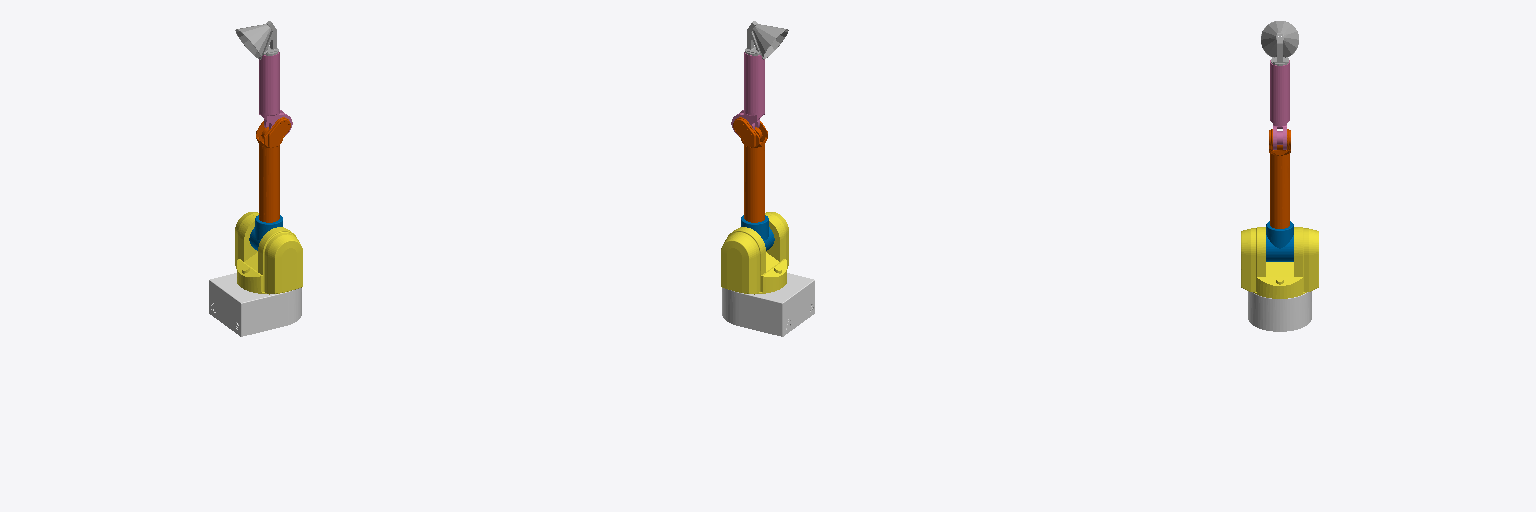
The robot description file, URDF, robot "wam_4dof":
<?xml version="1.0" ?>
<!-- =================================================================================== -->
<!-- |    This document was autogenerated by xacro from robot_description/urdf/robot/wam_4dof.xacro | -->
<!-- |    EDITING THIS FILE BY HAND IS NOT RECOMMENDED                                 | -->
<!-- =================================================================================== -->
<robot name="wam_4dof" xmlns:body="http://playerstage.sourceforge.net/gazebo/xmlschema/#body" xmlns:controller="http://playerstage.sourceforge.net/gazebo/xmlschema/#controller" xmlns:gazebo="http://playerstage.sourceforge.net/gazebo/xmlschema/#gz" xmlns:geom="http://playerstage.sourceforge.net/gazebo/xmlschema/#geom" xmlns:interface="http://playerstage.sourceforge.net/gazebo/xmlschema/#interface" xmlns:joint="http://playerstage.sourceforge.net/gazebo/xmlschema/#joint" xmlns:model="http://playerstage.sourceforge.net/gazebo/xmlschema/#model" xmlns:physics="http://playerstage.sourceforge.net/gazebo/xmlschema/#physics" xmlns:renderable="http://playerstage.sourceforge.net/gazebo/xmlschema/#renderable" xmlns:rendering="http://playerstage.sourceforge.net/gazebo/xmlschema/#rendering" xmlns:sensor="http://playerstage.sourceforge.net/gazebo/xmlschema/#sensor" xmlns:xacro="http://www.ros.org/wiki/xacro" xmlns:xi="http://www.w3.org/2001/XInclude">
  

  #Fictional Footprint - for integration
  
  <link name="world"/>
  <link name="wam_footprint">
    <inertial>
      <mass value="0.0001"/>
      <origin xyz="0 0 0"/>
      <inertia ixx="0.0001" ixy="0.0" ixz="0.0" iyy="0.0001" iyz="0.0" izz="0.0001"/>
    </inertial>
    <visual>
      <origin rpy="0 0 0" xyz="0 0 0"/>
      <geometry>
        <box size="0.001 0.001 0.001"/>
      </geometry>
    </visual>
    <collision>
      <origin rpy="0 0 0" xyz="0 0 0.0"/>
      <geometry>
        <box size="0.001 0.001 0.001"/>
      </geometry>
    </collision>
  </link>
  

  #WAM BASE
  
  <link name="wam_base">
    <inertial>
      <mass value="9.97059584"/>
      <origin xyz="-0.02017671 -0.26604706 -0.14071720"/>
      <inertia ixx="1.01232865" ixy="0.05992441" ixz="0.05388736" iyy="0.38443311" iyz="0.37488748" izz="0.82739198"/>
    </inertial>
    <visual>
      <origin rpy="0 0 -1.5707963267948966" xyz="0 0 0"/>
      <geometry name="wam_base_visual">
        <mesh filename="../meshes/base_link_fine.obj"/>
      </geometry>
      <material name="LightGrey">
        <color rgba="0.9 0.9 0.9 1.0"/>
      </material>
    </visual>
    <collision>
      <origin rpy="0 0 -1.5707963267948966" xyz="0 0 0"/>
      <geometry name="wam_base_collision">
        <mesh filename="../meshes/base_link_convex.obj"/>
      </geometry>
      <contact_coefficients kd="1000.0" kp="1000.0" mu="0"/>
    </collision>
  </link>
  

  #LINK J1, Shoulder link
  
  <link name="j1">
    <inertial>
      <mass value="10.76768767"/>
      <origin xyz="-0.00443422 0.12189039 -0.00066489"/>
      <inertia ixx="0.29486350" ixy="-0.00795023" ixz="-0.00009311" iyy="0.11350017" iyz="0.00018711" izz="0.25065343"/>
    </inertial>
    <visual>
      <origin rpy="1.5707963267948966 0 0" xyz="0 0 0"/>
      <geometry name="link_j1_visual">
        <mesh filename="../meshes/shoulder_link_fine.obj"/>
      </geometry>
    </visual>
    <collision>
      <origin rpy="1.5707963267948966 0 0" xyz="0 0 0"/>
      <geometry name="link_j1_collision">
        <mesh filename="../meshes/shoulder_link_convex_decomposition_p1.obj"/>
      </geometry>
      <contact_coefficients kd="1000.0" kp="1000.0" mu="0"/>
    </collision>
    <collision>
      <origin rpy="1.5707963267948966 0 0" xyz="0 0 0"/>
      <geometry name="link_j1_collision">
        <mesh filename="../meshes/shoulder_link_convex_decomposition_p2.obj"/>
      </geometry>
      <contact_coefficients kd="1000.0" kp="1000.0" mu="0"/>
    </collision>
    <collision>
      <origin rpy="1.5707963267948966 0 0" xyz="0 0 0"/>
      <geometry name="link_j1_collision">
        <mesh filename="../meshes/shoulder_link_convex_decomposition_p3.obj"/>
      </geometry>
      <contact_coefficients kd="1000.0" kp="1000.0" mu="0"/>
    </collision>
  </link>
  

  #LINK J2, shoulder pitch link
  
  <link name="j2">
    <inertial>
      <mass value="3.87493756"/>
      <origin xyz="-0.00236983 0.03105614 0.01542114"/>
      <inertia ixx="0.02606840" ixy="-0.00001346" ixz="-0.00011701" iyy="0.01472202" iyz="0.00003659" izz="0.01934814"/>
    </inertial>
    <visual>
      <origin rpy="0 0 0" xyz="0 0 0"/>
      <geometry name="link_j2_visual">
        <mesh filename="../meshes/shoulder_pitch_link_fine.obj"/>
      </geometry>
    </visual>
    <collision>
      <origin rpy="0 0 0" xyz="0 0 0"/>
      <geometry name="link_j2_collision">
        <mesh filename="../meshes/shoulder_pitch_link_convex.obj"/>
      </geometry>
      <contact_coefficients kd="1000.0" kp="1000.0" mu="0"/>
    </collision>
  </link>
  

  #LINK J3 upper arm link
  
  <link name="j3">
    <inertial>
      <mass value="1.80228141"/>
      <origin xyz="-0.03825858 0.20750770 0.00003309"/>
      <inertia ixx="0.13671601" ixy="-0.01680434" ixz="0.00000510" iyy="0.00588354" iyz="-0.00000530" izz="0.13951371"/>
    </inertial>
    <visual>
      <origin rpy="1.5707963267948966 0 0" xyz="0 0 0"/>
      <geometry name="link_j3_visual">
        <mesh filename="../meshes/upper_arm_link_fine.obj"/>
      </geometry>
    </visual>
    <collision>
      <origin rpy="1.5707963267948966 0 0" xyz="0 0 0"/>
      <geometry name="link_j3_collision">
        <mesh filename="../meshes/upper_arm_link_convex_decomposition_p1.obj"/>
      </geometry>
      <contact_coefficients kd="1000.0" kp="1000.0" mu="0"/>
    </collision>
    <collision>
      <origin rpy="1.5707963267948966 0 0" xyz="0 0 0"/>
      <geometry name="link_j3_collision">
        <mesh filename="../meshes/upper_arm_link_convex_decomposition_p2.obj"/>
      </geometry>
      <contact_coefficients kd="1000.0" kp="1000.0" mu="0"/>
    </collision>
  </link>
  

  #LINK J4, forearm base
  
  <link name="j4">
    <inertial>
      <mass value="1.06513649"/>
      <origin xyz="0.01095471 -0.00002567 0.14053900"/>
      <inertia ixx="0.03952350" ixy="0.00000189" ixz="0.00003117" iyy="0.04008214" iyz="0.00000131" izz="0.00210299"/>
    </inertial>
    <visual>
      <origin rpy="1.5707963267948966 3.141592653589793 3.141592653589793" xyz="0 0 0"/>
      <geometry>
        <mesh filename="../meshes/elbow_link_fine.obj"/>
      </geometry>
    </visual>
    <visual>
      <origin rpy="3.141592653589793 0 0" xyz="-.045 0 0.214"/>
      <geometry>
        <cylinder length="0.272" radius=".0445"/>
      </geometry>
    </visual>
    <collision>
      <origin rpy="1.5707963267948966 3.141592653589793 3.141592653589793" xyz="0 0 0"/>
      <geometry>
        <mesh filename="../meshes/elbow_link_convex.obj"/>
      </geometry>
      <contact_coefficients kd="1000.0" kp="1000.0" mu="0"/>
    </collision>
    <collision>
      <origin rpy="3.141592653589793 0 0" xyz="-.045 0 0.214"/>
      <geometry>
        <cylinder length="0.272" radius=".0445"/>
      </geometry>
      <contact_coefficients kd="1000.0" kp="1000.0" mu="0"/>
    </collision>
  </link>
  
  #LINK tool - FIXED
  
  <link name="tool">
    <inertial>
      <mass value="0.315"/>
      <origin xyz="0 0.01 0.07"/>
      <inertia ixx="0.03952350" ixy="0.00000189" ixz="0.00003117" iyy="0.04008214" iyz="0.00000131" izz="0.00210299"/>
    </inertial>
    <visual>
      <origin rpy="0 0 0" xyz="0 0 0"/>
      <geometry>
        <mesh filename="../meshes/throwing_tool.obj"/>
      </geometry>
    </visual>
  </link>
  

  #LINK tool collision - FIXED
  
  <link name="tool_col">
    <collision>
      <origin rpy="0 0 0.0" xyz="0 0 0"/>
      <geometry>
        <mesh filename="../meshes/cone_convex_part_side.obj"/>
      </geometry>
    </collision>
    <collision>
      <origin rpy="0 0 0.17453292519943295" xyz="0 0 0"/>
      <geometry>
        <mesh filename="../meshes/cone_convex_part_side.obj"/>
      </geometry>
    </collision>
    <collision>
      <origin rpy="0 0 0.3490658503988659" xyz="0 0 0"/>
      <geometry>
        <mesh filename="../meshes/cone_convex_part_side.obj"/>
      </geometry>
    </collision>
    <collision>
      <origin rpy="0 0 0.5235987755982988" xyz="0 0 0"/>
      <geometry>
        <mesh filename="../meshes/cone_convex_part_side.obj"/>
      </geometry>
    </collision>
    <collision>
      <origin rpy="0 0 0.6981317007977318" xyz="0 0 0"/>
      <geometry>
        <mesh filename="../meshes/cone_convex_part_side.obj"/>
      </geometry>
    </collision>
    <collision>
      <origin rpy="0 0 0.8726646259971648" xyz="0 0 0"/>
      <geometry>
        <mesh filename="../meshes/cone_convex_part_side.obj"/>
      </geometry>
    </collision>
    <collision>
      <origin rpy="0 0 1.0471975511965976" xyz="0 0 0"/>
      <geometry>
        <mesh filename="../meshes/cone_convex_part_side.obj"/>
      </geometry>
    </collision>
    <collision>
      <origin rpy="0 0 1.2217304763960306" xyz="0 0 0"/>
      <geometry>
        <mesh filename="../meshes/cone_convex_part_side.obj"/>
      </geometry>
    </collision>
    <collision>
      <origin rpy="0 0 1.3962634015954636" xyz="0 0 0"/>
      <geometry>
        <mesh filename="../meshes/cone_convex_part_side.obj"/>
      </geometry>
    </collision>
    <collision>
      <origin rpy="0 0 1.5707963267948966" xyz="0 0 0"/>
      <geometry>
        <mesh filename="../meshes/cone_convex_part_side.obj"/>
      </geometry>
    </collision>
    <collision>
      <origin rpy="0 0 1.7453292519943295" xyz="0 0 0"/>
      <geometry>
        <mesh filename="../meshes/cone_convex_part_side.obj"/>
      </geometry>
    </collision>
    <collision>
      <origin rpy="0 0 1.9198621771937625" xyz="0 0 0"/>
      <geometry>
        <mesh filename="../meshes/cone_convex_part_side.obj"/>
      </geometry>
    </collision>
    <collision>
      <origin rpy="0 0 2.0943951023931953" xyz="0 0 0"/>
      <geometry>
        <mesh filename="../meshes/cone_convex_part_side.obj"/>
      </geometry>
    </collision>
    <collision>
      <origin rpy="0 0 2.2689280275926285" xyz="0 0 0"/>
      <geometry>
        <mesh filename="../meshes/cone_convex_part_side.obj"/>
      </geometry>
    </collision>
    <collision>
      <origin rpy="0 0 2.443460952792061" xyz="0 0 0"/>
      <geometry>
        <mesh filename="../meshes/cone_convex_part_side.obj"/>
      </geometry>
    </collision>
    <collision>
      <origin rpy="0 0 2.6179938779914944" xyz="0 0 0"/>
      <geometry>
        <mesh filename="../meshes/cone_convex_part_side.obj"/>
      </geometry>
    </collision>
    <collision>
      <origin rpy="0 0 2.792526803190927" xyz="0 0 0"/>
      <geometry>
        <mesh filename="../meshes/cone_convex_part_side.obj"/>
      </geometry>
    </collision>
    <collision>
      <origin rpy="0 0 2.96705972839036" xyz="0 0 0"/>
      <geometry>
        <mesh filename="../meshes/cone_convex_part_side.obj"/>
      </geometry>
    </collision>
    <collision>
      <origin rpy="0 0 3.141592653589793" xyz="0 0 0"/>
      <geometry>
        <mesh filename="../meshes/cone_convex_part_side.obj"/>
      </geometry>
    </collision>
    <collision>
      <origin rpy="0 0 3.316125578789226" xyz="0 0 0"/>
      <geometry>
        <mesh filename="../meshes/cone_convex_part_side.obj"/>
      </geometry>
    </collision>
    <collision>
      <origin rpy="0 0 3.490658503988659" xyz="0 0 0"/>
      <geometry>
        <mesh filename="../meshes/cone_convex_part_side.obj"/>
      </geometry>
    </collision>
    <collision>
      <origin rpy="0 0 3.665191429188092" xyz="0 0 0"/>
      <geometry>
        <mesh filename="../meshes/cone_convex_part_side.obj"/>
      </geometry>
    </collision>
    <collision>
      <origin rpy="0 0 3.839724354387525" xyz="0 0 0"/>
      <geometry>
        <mesh filename="../meshes/cone_convex_part_side.obj"/>
      </geometry>
    </collision>
    <collision>
      <origin rpy="0 0 4.014257279586958" xyz="0 0 0"/>
      <geometry>
        <mesh filename="../meshes/cone_convex_part_side.obj"/>
      </geometry>
    </collision>
    <collision>
      <origin rpy="0 0 4.1887902047863905" xyz="0 0 0"/>
      <geometry>
        <mesh filename="../meshes/cone_convex_part_side.obj"/>
      </geometry>
    </collision>
    <collision>
      <origin rpy="0 0 4.363323129985823" xyz="0 0 0"/>
      <geometry>
        <mesh filename="../meshes/cone_convex_part_side.obj"/>
      </geometry>
    </collision>
    <collision>
      <origin rpy="0 0 4.537856055185257" xyz="0 0 0"/>
      <geometry>
        <mesh filename="../meshes/cone_convex_part_side.obj"/>
      </geometry>
    </collision>
    <collision>
      <origin rpy="0 0 4.71238898038469" xyz="0 0 0"/>
      <geometry>
        <mesh filename="../meshes/cone_convex_part_side.obj"/>
      </geometry>
    </collision>
    <collision>
      <origin rpy="0 0 4.886921905584122" xyz="0 0 0"/>
      <geometry>
        <mesh filename="../meshes/cone_convex_part_side.obj"/>
      </geometry>
    </collision>
    <collision>
      <origin rpy="0 0 5.061454830783555" xyz="0 0 0"/>
      <geometry>
        <mesh filename="../meshes/cone_convex_part_side.obj"/>
      </geometry>
    </collision>
    <collision>
      <origin rpy="0 0 5.235987755982989" xyz="0 0 0"/>
      <geometry>
        <mesh filename="../meshes/cone_convex_part_side.obj"/>
      </geometry>
    </collision>
    <collision>
      <origin rpy="0 0 5.410520681182422" xyz="0 0 0"/>
      <geometry>
        <mesh filename="../meshes/cone_convex_part_side.obj"/>
      </geometry>
    </collision>
    <collision>
      <origin rpy="0 0 5.585053606381854" xyz="0 0 0"/>
      <geometry>
        <mesh filename="../meshes/cone_convex_part_side.obj"/>
      </geometry>
    </collision>
    <collision>
      <origin rpy="0 0 5.759586531581287" xyz="0 0 0"/>
      <geometry>
        <mesh filename="../meshes/cone_convex_part_side.obj"/>
      </geometry>
    </collision>
    <collision>
      <origin rpy="0 0 5.93411945678072" xyz="0 0 0"/>
      <geometry>
        <mesh filename="../meshes/cone_convex_part_side.obj"/>
      </geometry>
    </collision>
    <collision>
      <origin rpy="0 0 6.1086523819801535" xyz="0 0 0"/>
      <geometry>
        <mesh filename="../meshes/cone_convex_part_side.obj"/>
      </geometry>
    </collision>
  </link>
  


  ## Joint Descriptions
  
  <joint name="fix_world" type="fixed">
    <parent link="world"/>
    <child link="wam_footprint"/>
  </joint>
  <joint name="wam_basejoint" type="fixed">
    <parent link="wam_footprint"/>
    <child link="wam_base"/>
    <origin rpy="0 0 1.5707963267948966" xyz="0 0 0.84"/>
  </joint>
  <joint name="wam_j1_joint" type="revolute">
    <origin rpy="-1.57079633 0 -1.5707963267948966" xyz="0.0 0.0 0.346"/>
    <parent link="wam_base"/>
    <child link="j1"/>
    <axis xyz="0 1 0"/>
    <limit effort="150.0" lower="-2.6" upper="2.6" velocity="20"/>
    <dynamics damping="1000"/>
  </joint>
  <joint name="wam_j2_joint" type="revolute">
    <origin rpy="0 0 0" xyz="0.0 0.0 0.0"/>
    <parent link="j1"/>
    <child link="j2"/>
    <axis xyz="0 0 1"/>
    <limit effort="125.0" lower="-2.0" upper="2.0" velocity="20"/>
    <dynamics damping="1000"/>
  </joint>
  <joint name="wam_j3_joint" type="revolute">
    <origin rpy="0 0 0" xyz="0.0 0.0 0.0"/>
    <parent link="j2"/>
    <child link="j3"/>
    <axis xyz="0 1 0"/>
    <limit effort="40.0" lower="-2.8" upper="2.8" velocity="20"/>
    <dynamics damping="1000"/>
  </joint>
  <joint name="wam_j4_joint" type="revolute">
    <origin rpy="1.57079633 0 0" xyz="0.045 -0.55 0.0"/>
    <parent link="j3"/>
    <child link="j4"/>
    <axis xyz="0 1 0"/>
    <limit effort="60.0" lower="-0.9" upper="3.1" velocity="20"/>
    <dynamics damping="1000"/>
  </joint>
  <joint name="wam_tool_fixed_joint" type="fixed">
    <origin rpy="0 0 1.5707963267948966" xyz="-0.045 0. 0.358"/>
    <parent link="j4"/>
    <child link="tool"/>
  </joint>
  <joint name="wam_tool_col_fixed_joint" type="fixed">
    <origin rpy="-2.092 0 0" xyz="0. 0.002 0.108"/>
    <parent link="tool"/>
    <child link="tool_col"/>
  </joint>
  


  #Adding Gazebo Requirements
  
  <gazebo reference="wam_world">
    <material>Gazebo/White</material>
    <selfCollide>true</selfCollide>
  </gazebo>
  <gazebo reference="wam_base">
    <material>Gazebo/White</material>
    <selfCollide>true</selfCollide>
    <turnGravityOff>true</turnGravityOff>
  </gazebo>
  <gazebo reference="j1">
    <material>Gazebo/White</material>
    <selfCollide>true</selfCollide>
    <turnGravityOff>true</turnGravityOff>
  </gazebo>
  <gazebo reference="j2">
    <material>Gazebo/Grey</material>
    <selfCollide>true</selfCollide>
    <turnGravityOff>true</turnGravityOff>
  </gazebo>
  <gazebo reference="j3">
    <material>Gazebo/Grey</material>
    <selfCollide>true</selfCollide>
    <turnGravityOff>true</turnGravityOff>
  </gazebo>
  <gazebo reference="j4">
    <material>Gazebo/Grey</material>
    <selfCollide>true</selfCollide>
    <turnGravityOff>true</turnGravityOff>
  </gazebo>
  <gazebo reference="tool">
    <material>Gazebo/Grey</material>
    <selfCollide>true</selfCollide>
    <turnGravityOff>true</turnGravityOff>
  </gazebo>
  

  #Adding Transmissions
  
  <transmission name="j1_transmission" type="pr2_mechanism_model/SimpleTransmission">
    <actuator name="j1"/>
    <joint name="wam_j1_joint"/>
    <mechanicalReduction>1</mechanicalReduction>
    <motorTorqueConstant>1</motorTorqueConstant>
  </transmission>
  <transmission name="j2_transmission" type="pr2_mechanism_model/SimpleTransmission">
    <actuator name="j2"/>
    <joint name="wam_j2_joint"/>
    <mechanicalReduction>1</mechanicalReduction>
    <motorTorqueConstant>1</motorTorqueConstant>
  </transmission>
  <transmission name="j3_transmission" type="pr2_mechanism_model/SimpleTransmission">
    <actuator name="j3"/>
    <joint name="wam_j3_joint"/>
    <mechanicalReduction>1</mechanicalReduction>
    <motorTorqueConstant>1</motorTorqueConstant>
  </transmission>
  <transmission name="j4_transmission" type="pr2_mechanism_model/SimpleTransmission">
    <actuator name="j4"/>
    <joint name="wam_j4_joint"/>
    <mechanicalReduction>1</mechanicalReduction>
    <motorTorqueConstant>1</motorTorqueConstant>
  </transmission>
</robot>

--- Facts derived from the render (not from the file) ---
Views: 3 orthographic renders of the robot side by side, from view 1: azimuth 30°, elevation 25°; view 2: azimuth 150°, elevation 25°; view 3: azimuth 270°, elevation 25°.
Model wam_4dof with 9 links and 8 joints (4 revolute, 4 fixed), rooted at world, posed every joint at zero.
Links seen in each view (by area): view 1: j1, wam_base, j3, j4, tool; view 2: j1, wam_base, j3, j4, tool; view 3: j1, wam_base, j3, j4, tool, j2.
Boxes of the visible links, <box> form: j1: <box>235,212,302,294</box>; wam_base: <box>209,273,301,336</box>; j3: <box>256,117,290,222</box>; j4: <box>259,52,292,135</box>; tool: <box>235,21,278,59</box>; j1: <box>721,212,788,294</box>; wam_base: <box>722,273,814,336</box>; j3: <box>733,117,767,222</box>; j4: <box>731,52,764,135</box>; tool: <box>745,21,788,59</box>; j1: <box>1241,227,1318,298</box>; wam_base: <box>1248,291,1311,331</box>; j3: <box>1269,129,1290,228</box>; j4: <box>1270,60,1289,149</box>; tool: <box>1261,21,1298,65</box>; j2: <box>1266,221,1293,261</box>.
Size in the robot's own frame: 0.36 by 0.3476 by 2.23 metres.
Meshes: 6 distinct files referenced, 6 mesh visuals loaded (6 OBJ).